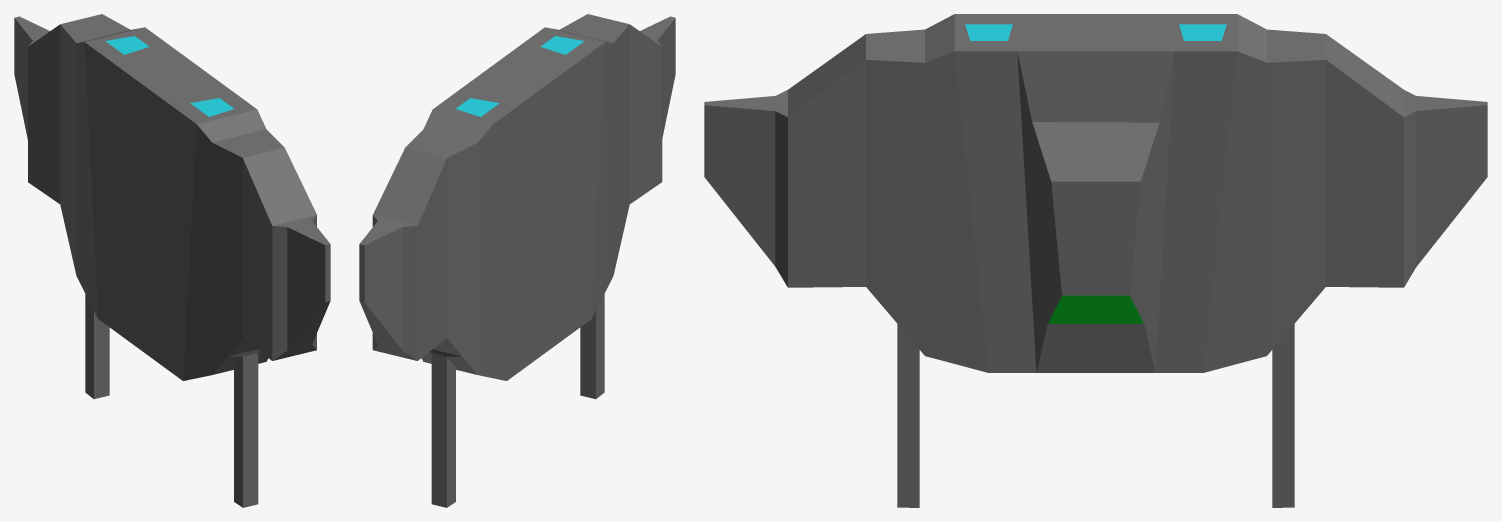
File: Enemy.fbx
3 views of the same model, side by side, from view 1: azimuth 30°, elevation 25°; view 2: azimuth 150°, elevation 25°; view 3: azimuth 270°, elevation 25° (orthographic). The views are drawn at different scales.
Parts seen in each view (by area): view 1: Cube; view 2: Cube; view 3: Cube.
Part boxes in pixels (left/top/right/bottom): Cube: left=14, top=14, right=330, bottom=507; Cube: left=359, top=14, right=675, bottom=507; Cube: left=704, top=14, right=1487, bottom=507.
Bounding box in the file's own units: 51.92 × 201 × 304.
